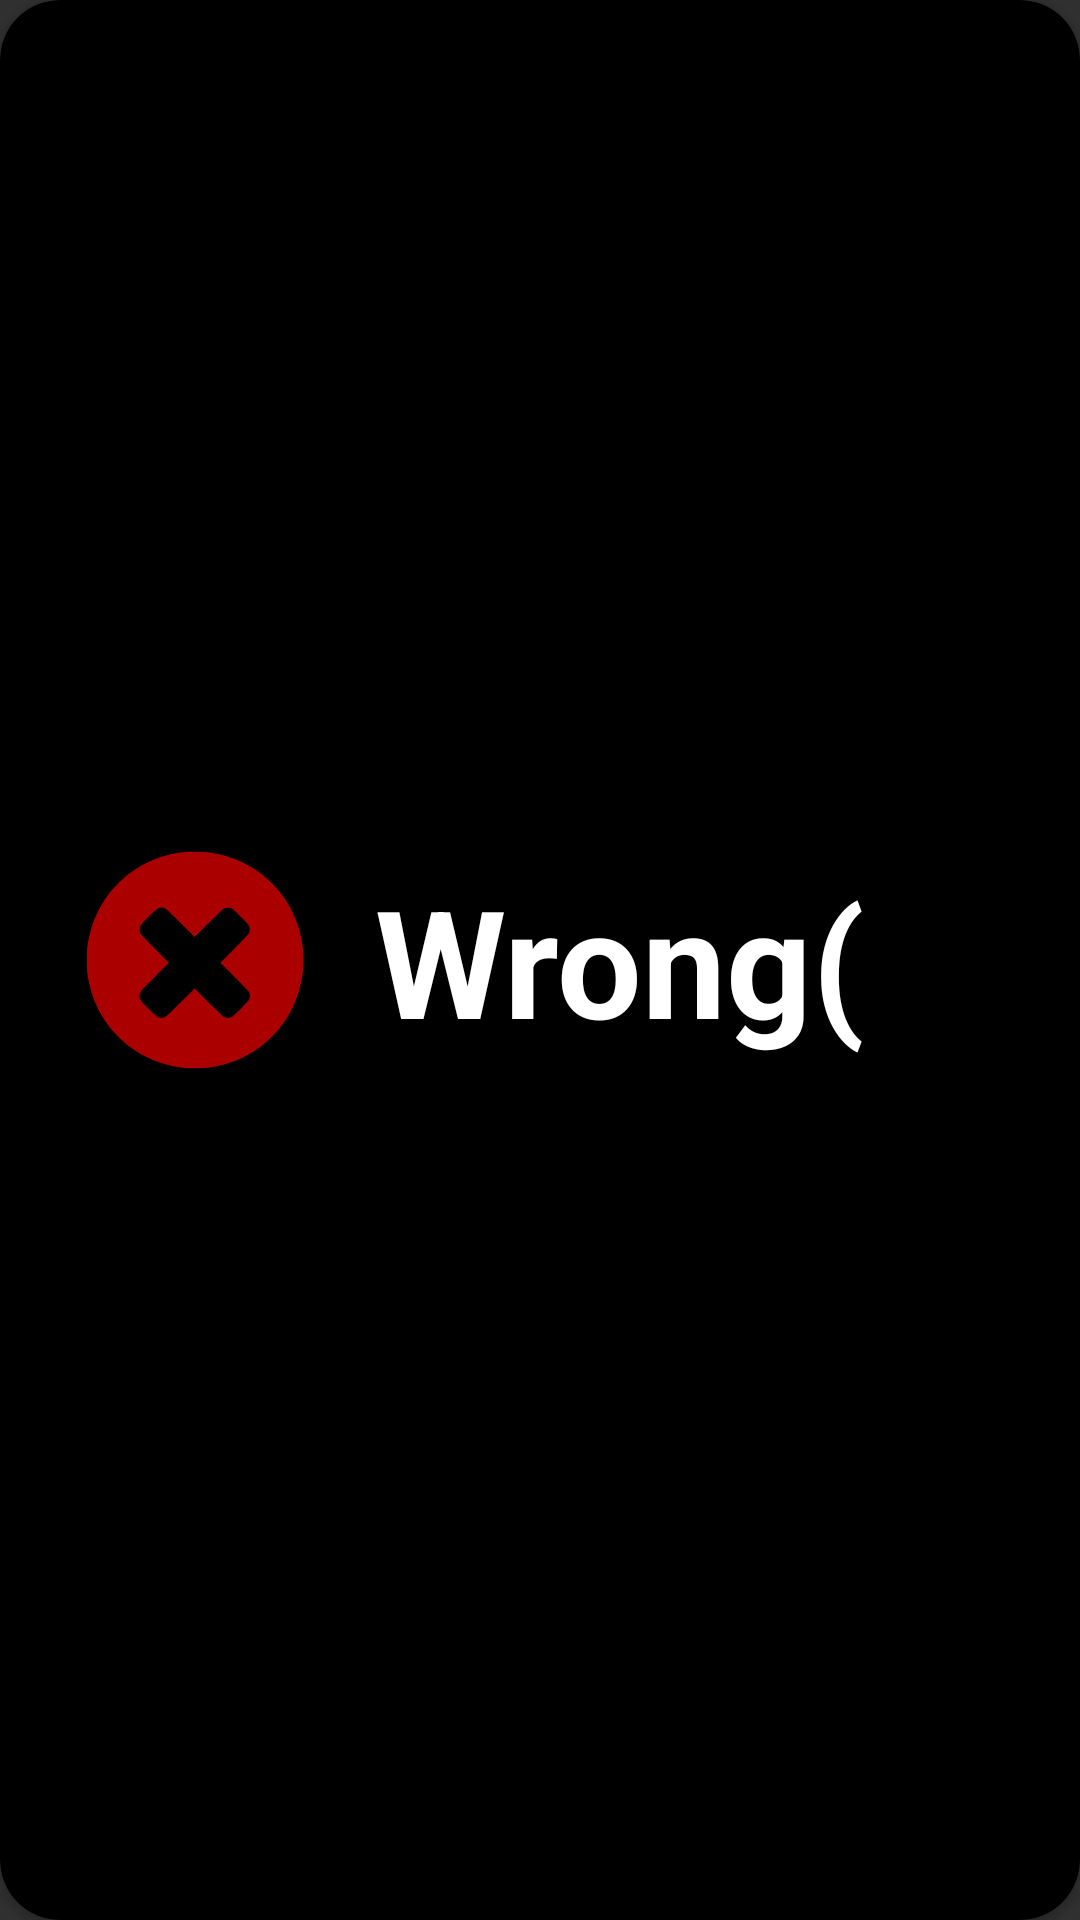

Icon click points for this 1080 x 1920 phone screenshot, format [x,y]:
cross: [195,960]
